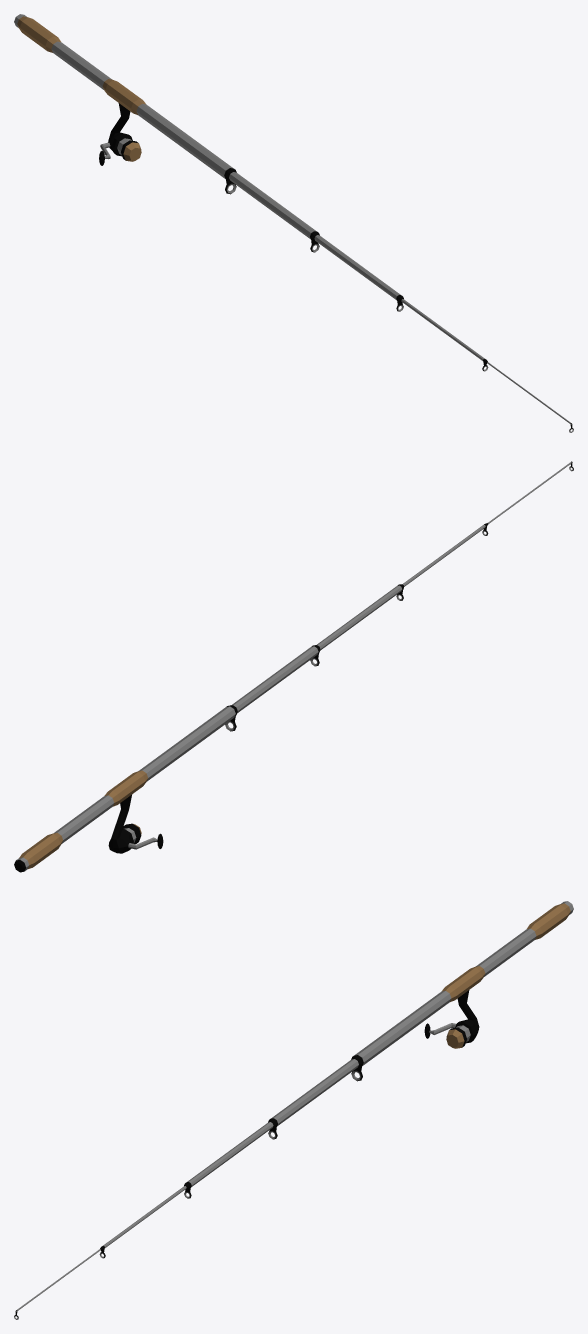
File: FishingRod_2.fbx
3 renders of one model, top to bottom at view 1: azimuth 30°, elevation 25°; view 2: azimuth 150°, elevation 25°; view 3: azimuth 330°, elevation 25°, orthographic.
Visible parts, largest first — view 1: Cylinder.008; view 2: Cylinder.008; view 3: Cylinder.008.
Boxes of the visible parts, x1,y1,x2,y2 form: Cylinder.008: [14, 14, 573, 432]; Cylinder.008: [14, 461, 573, 872]; Cylinder.008: [14, 901, 573, 1319].
Bounding box in the file's own units: 14.06 × 22.07 × 325.
